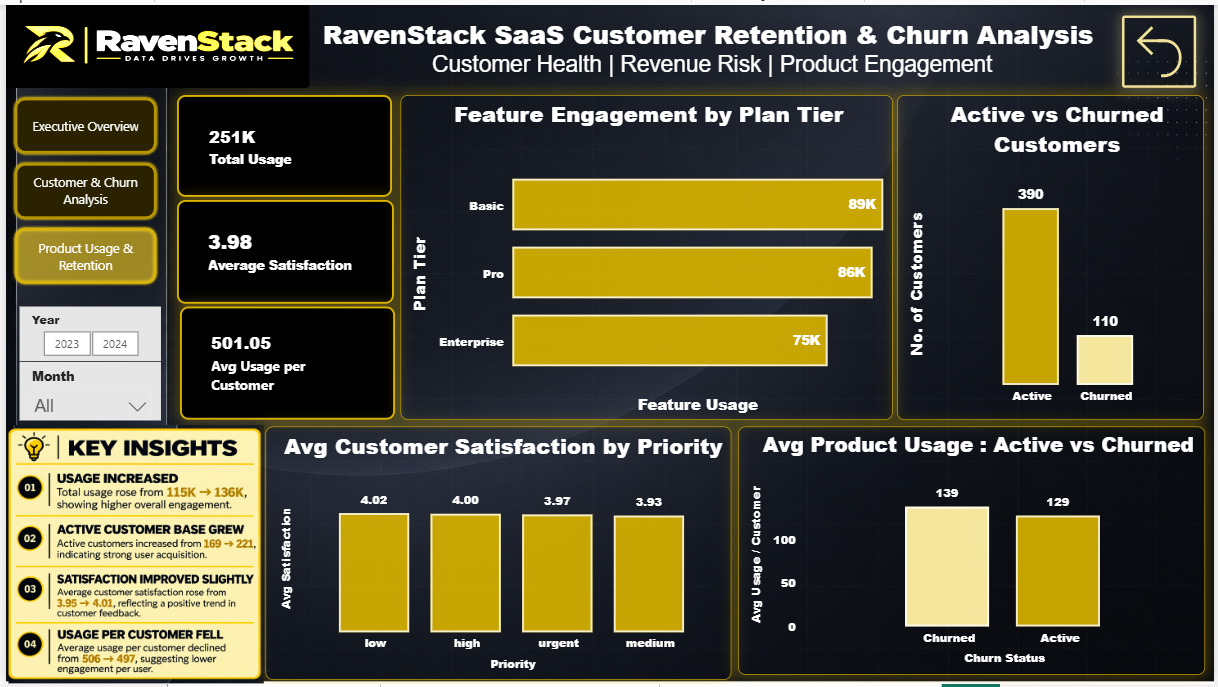

The page's visual inventory and layout, read from the dashboard file:
{"tool":"powerbi","page":{"name":"Product Usage & Retention","canvas":[1280,720],"ordinal":2},"visuals":[{"type":"textbox","box":[322.5,7.5,850,80],"z":0},{"type":"cardVisual","fields":{"Data":["ravenstack_feature_usage.Total_Usage"]},"box":[182,96,228,108],"z":1000},{"type":"cardVisual","fields":{"Data":["ravenstack_support_tickets.Avg_Satisfaction"]},"box":[182,206,230,110],"z":2000},{"type":"cardVisual","fields":{"Data":["ravenstack_feature_usage.Avg_Usage/Customer"]},"box":[184,320,228,120],"z":3000},{"type":"columnChart","title":"Avg Customer Satisfaction by Priority","fields":{"Y":["ravenstack_support_tickets.Avg_Satisfaction"],"Category":["ravenstack_support_tickets.Priority"]},"box":[275.6,446.7,494.3,268.6],"z":4000},{"type":"clusteredBarChart","title":"Feature Engagement by Plan Tier","fields":{"Y":["Sum(ravenstack_feature_usage.Usage Count)"],"Category":["ravenstack_accounts.Plan Tier"]},"box":[417.8,95.6,522.2,344.4],"z":6000},{"type":"slicer","fields":{"Values":["Date_Table.Month"]},"box":[14,378,150,62],"z":7000},{"type":"slicer","fields":{"Values":["Date_Table.Year"]},"box":[14,320,150,58],"z":8000},{"type":"columnChart","title":"Active vs Churned Customers ","fields":{"Y":["CountNonNull(ravenstack_accounts.Account ID)"],"Category":["ravenstack_accounts.Customer Status"]},"box":[945.6,95.6,325.6,344.4],"z":9000},{"type":"columnChart","title":"Avg Product Usage : Active vs Churned","fields":{"Y":["ravenstack_feature_usage.Avg Usage per Customer"],"Category":["ravenstack_accounts.Customer Status"]},"box":[775.6,446.7,495.6,263.3],"z":10000},{"type":"actionButton","box":[1183.3,11.7,78.3,76.7],"z":11000},{"type":"image","box":[0,0,322,88],"z":12000},{"type":"pageNavigator","box":[6.7,95,156.7,203.3],"z":13000},{"type":"image","box":[0,446,276,274],"z":14000}]}

Visuals, with their boxes in screenshot pixels (x1, y1, x2, y2), scaled from the page's 1280x720 canvas onto the 1218x687 screenshot:
textbox: select_region(307, 7, 1116, 83)
cardVisual - ravenstack_feature_usage.Total_Usage: select_region(173, 92, 390, 195)
cardVisual - ravenstack_support_tickets.Avg_Satisfaction: select_region(173, 197, 392, 302)
cardVisual - ravenstack_feature_usage.Avg_Usage/Customer: select_region(175, 305, 392, 420)
"Avg Customer Satisfaction by Priority" columnChart: select_region(262, 426, 733, 683)
"Feature Engagement by Plan Tier" clusteredBarChart: select_region(398, 91, 894, 420)
slicer - Date_Table.Month: select_region(13, 361, 156, 420)
slicer - Date_Table.Year: select_region(13, 305, 156, 361)
"Active vs Churned Customers " columnChart: select_region(900, 91, 1210, 420)
"Avg Product Usage : Active vs Churned" columnChart: select_region(738, 426, 1210, 677)
actionButton: select_region(1126, 11, 1200, 84)
image: select_region(0, 0, 306, 84)
pageNavigator: select_region(6, 91, 155, 285)
image: select_region(0, 426, 263, 686)
